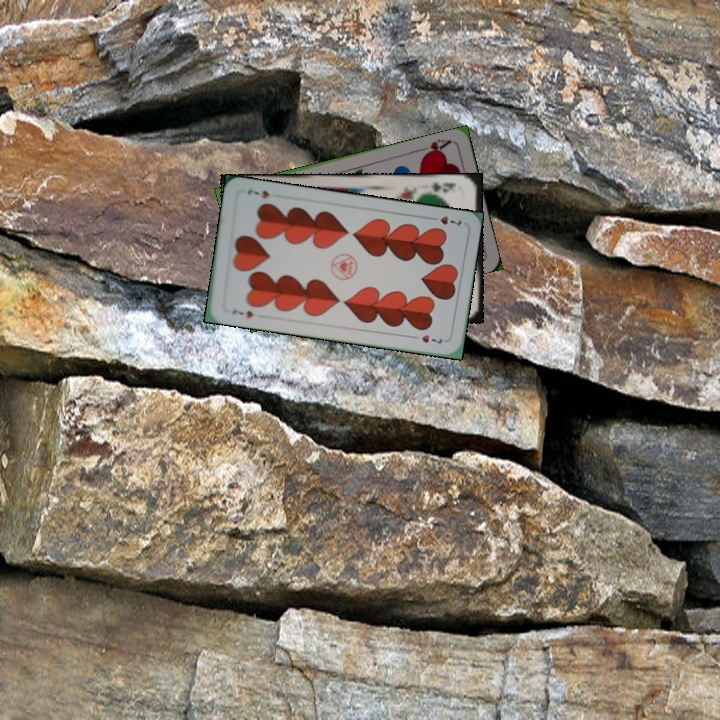GK: (427, 178, 458, 195)
H7: (425, 212, 464, 229), (228, 306, 255, 321)
HA: (414, 135, 454, 160)
